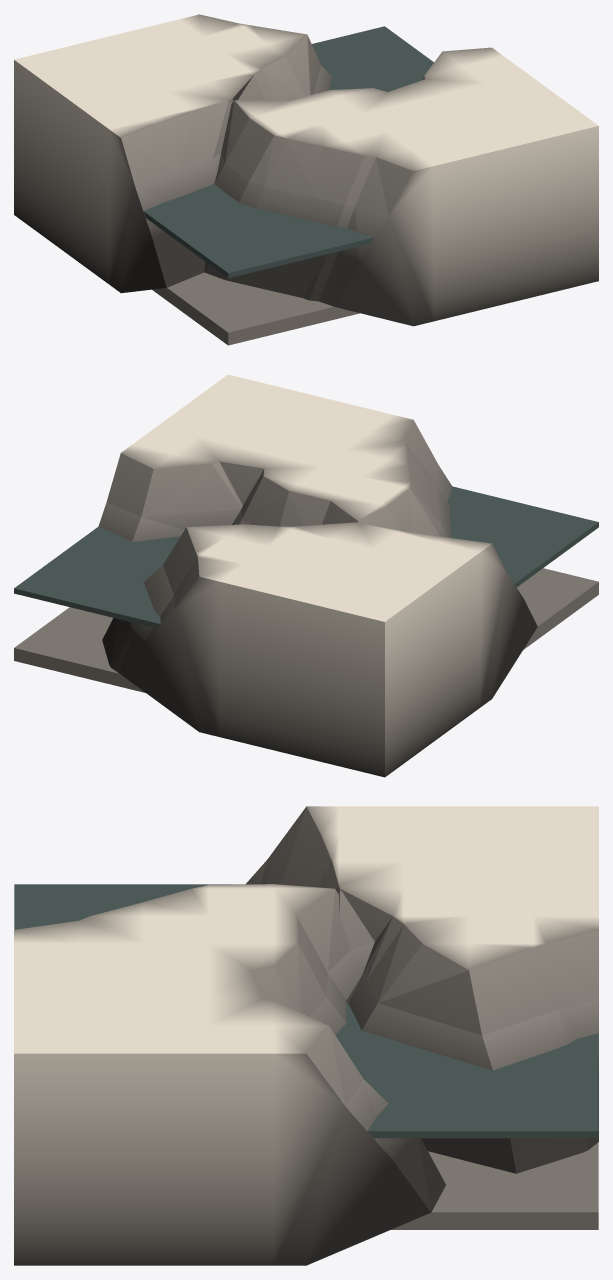
The model's file is SM_VKI_Ground_Stream_XOXO_Q01.fbx.
3 renders of one model, top to bottom at view 1: azimuth 30°, elevation 25°; view 2: azimuth 150°, elevation 25°; view 3: azimuth 270°, elevation 25°, orthographic. The views are drawn at different scales.
Visible parts, largest first — view 1: SM_VKI_Ground_Stream_XOXO_Q01.001; view 2: SM_VKI_Ground_Stream_XOXO_Q01.001; view 3: SM_VKI_Ground_Stream_XOXO_Q01.001.
Boxes of the visible parts, bbox=[...] form: SM_VKI_Ground_Stream_XOXO_Q01.001: bbox=[14, 14, 598, 345]; SM_VKI_Ground_Stream_XOXO_Q01.001: bbox=[14, 374, 598, 777]; SM_VKI_Ground_Stream_XOXO_Q01.001: bbox=[14, 806, 598, 1265].
Bounding box in the file's own units: 1.5 × 0.6 × 1.5.
